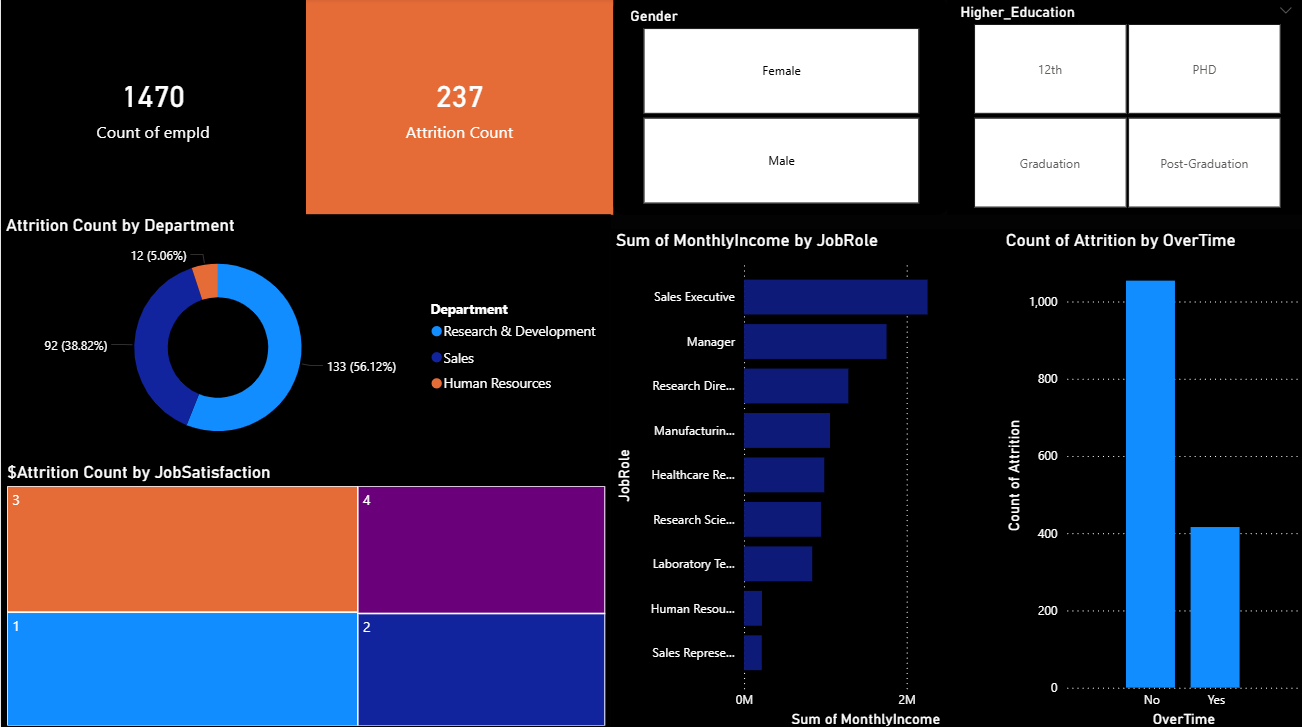

The page's visual inventory and layout, read from the dashboard file:
{"tool":"powerbi","page":{"name":"Page 1","canvas":[1280,720],"ordinal":0},"visuals":[{"type":"card","fields":{"Values":["CountNonNull(Final dataset Attrition.empId)"]},"box":[0,0,299.1,212.7],"z":0},{"type":"card","fields":{"Values":["Final dataset Attrition.$$Attrition Count"]},"box":[299.1,0,301.9,212.7],"z":1000},{"type":"donutChart","fields":{"Y":["Final dataset Attrition.$$Attrition Count"],"Category":["Final dataset Attrition.Department"]},"box":[0,212.7,598.3,242.9],"z":2000},{"type":"columnChart","fields":{"Category":["Final dataset Attrition.OverTime"],"Y":["CountNonNull(Final dataset Attrition.Attrition)"]},"box":[981.1,226.4,299.1,494],"z":3000},{"type":"clusteredBarChart","fields":{"Category":["Final dataset Attrition.JobRole"],"Y":["Sum(Final dataset Attrition.MonthlyIncome)"]},"box":[598.3,226.4,384.2,494],"z":4000},{"type":"slicer","fields":{"Values":["Final dataset Attrition.Gender"]},"box":[601,0,328,212.7],"z":5000},{"type":"slicer","fields":{"Values":["Final dataset Attrition.Higher_Education"]},"box":[929,0,351.3,212.7],"z":6000},{"type":"treemap","fields":{"Group":["Final dataset Attrition.JobSatisfaction"],"Values":["Final dataset Attrition.$$Attrition Count"]},"box":[1.4,455.6,596.9,264.8],"z":7001}]}

Visuals, with their boxes in screenshot pixels (x1, y1, x2, y2), scaled from the page's 1280x720 canvas onto the 1302x727 screenshot:
card - CountNonNull(Final dataset Attrition.empId): <region>0, 0, 304, 215</region>
card - Final dataset Attrition.$$Attrition Count: <region>304, 0, 611, 215</region>
donutChart - Final dataset Attrition.$$Attrition Count x Final dataset Attrition.Department: <region>0, 215, 609, 460</region>
columnChart - Final dataset Attrition.OverTime x CountNonNull(Final dataset Attrition.Attrition): <region>998, 229, 1301, 726</region>
clusteredBarChart - Final dataset Attrition.JobRole x Sum(Final dataset Attrition.MonthlyIncome): <region>609, 229, 999, 726</region>
slicer - Final dataset Attrition.Gender: <region>611, 0, 945, 215</region>
slicer - Final dataset Attrition.Higher_Education: <region>945, 0, 1301, 215</region>
treemap - Final dataset Attrition.JobSatisfaction x Final dataset Attrition.$$Attrition Count: <region>1, 460, 609, 726</region>
